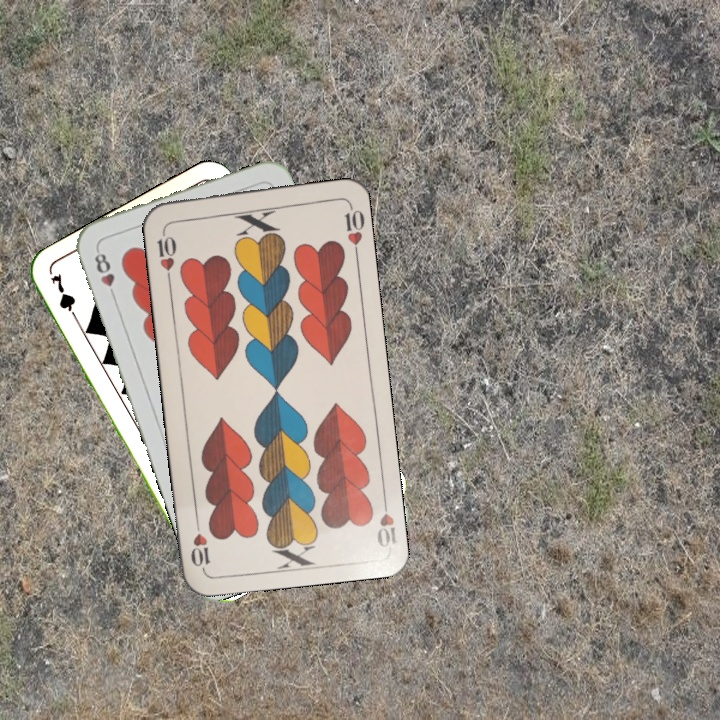G7: (46, 269, 83, 326)
H10: (371, 491, 399, 550), (152, 224, 179, 283)
H8: (90, 245, 119, 302)
